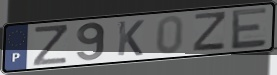0: (154, 14, 187, 56)
9: (75, 21, 106, 62)
E: (230, 6, 269, 52)
K: (115, 19, 146, 58)
Z: (32, 24, 69, 68), (191, 10, 228, 52)
